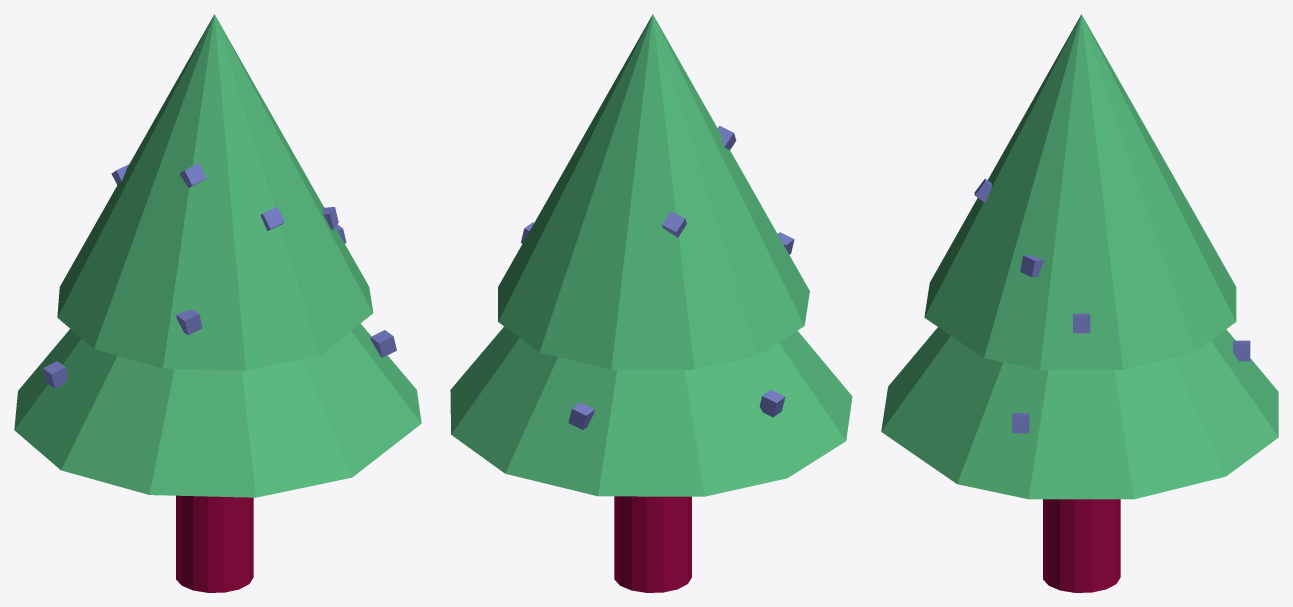
File: tree03.glb
3 renders of one model, left to right at view 1: azimuth 30°, elevation 25°; view 2: azimuth 150°, elevation 25°; view 3: azimuth 270°, elevation 25°, orthographic.
Size of the model in its own units: 0.3237 by 0.4982 by 0.3191.
